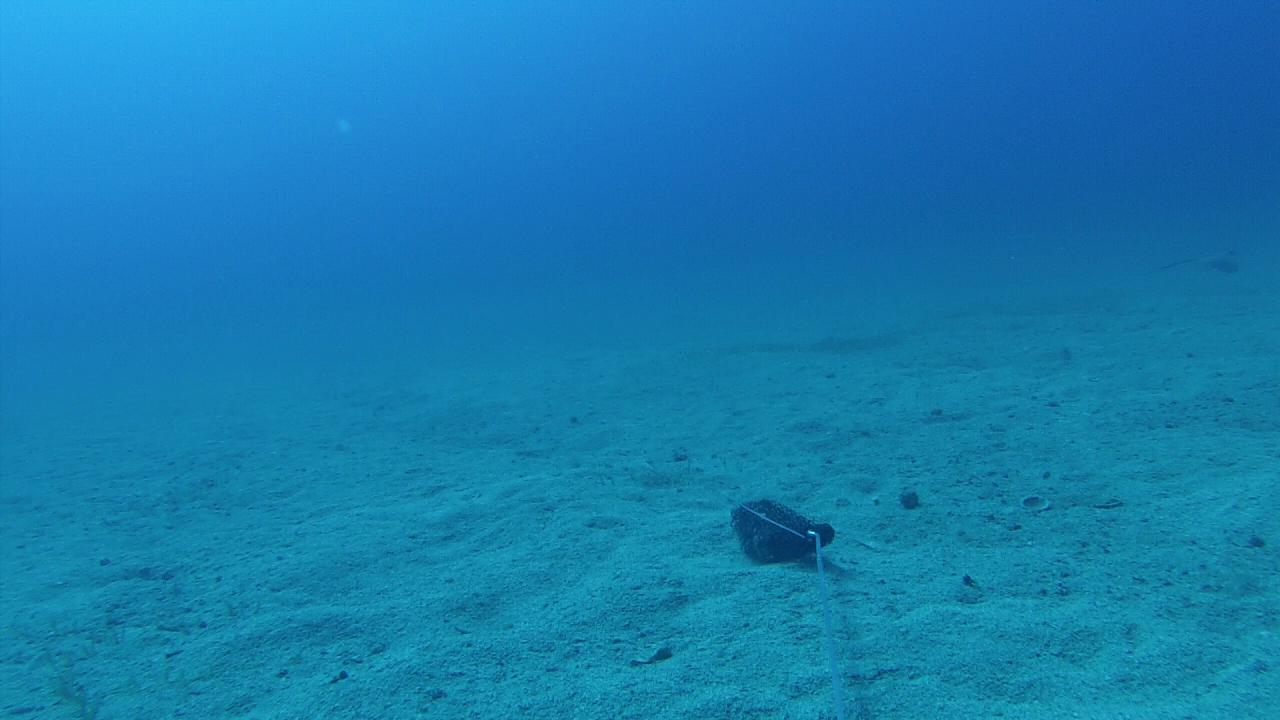dasyatis: (1158, 248, 1242, 276)
